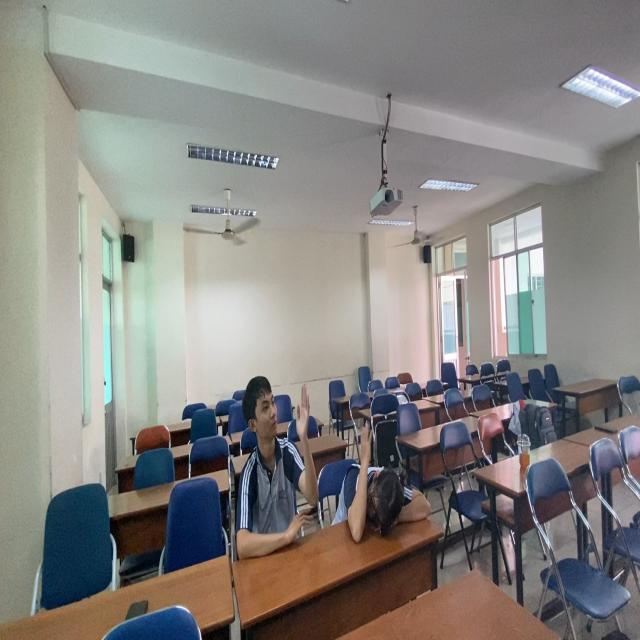raise_hand: (228, 373, 322, 559)
sleep: (333, 451, 437, 543)
